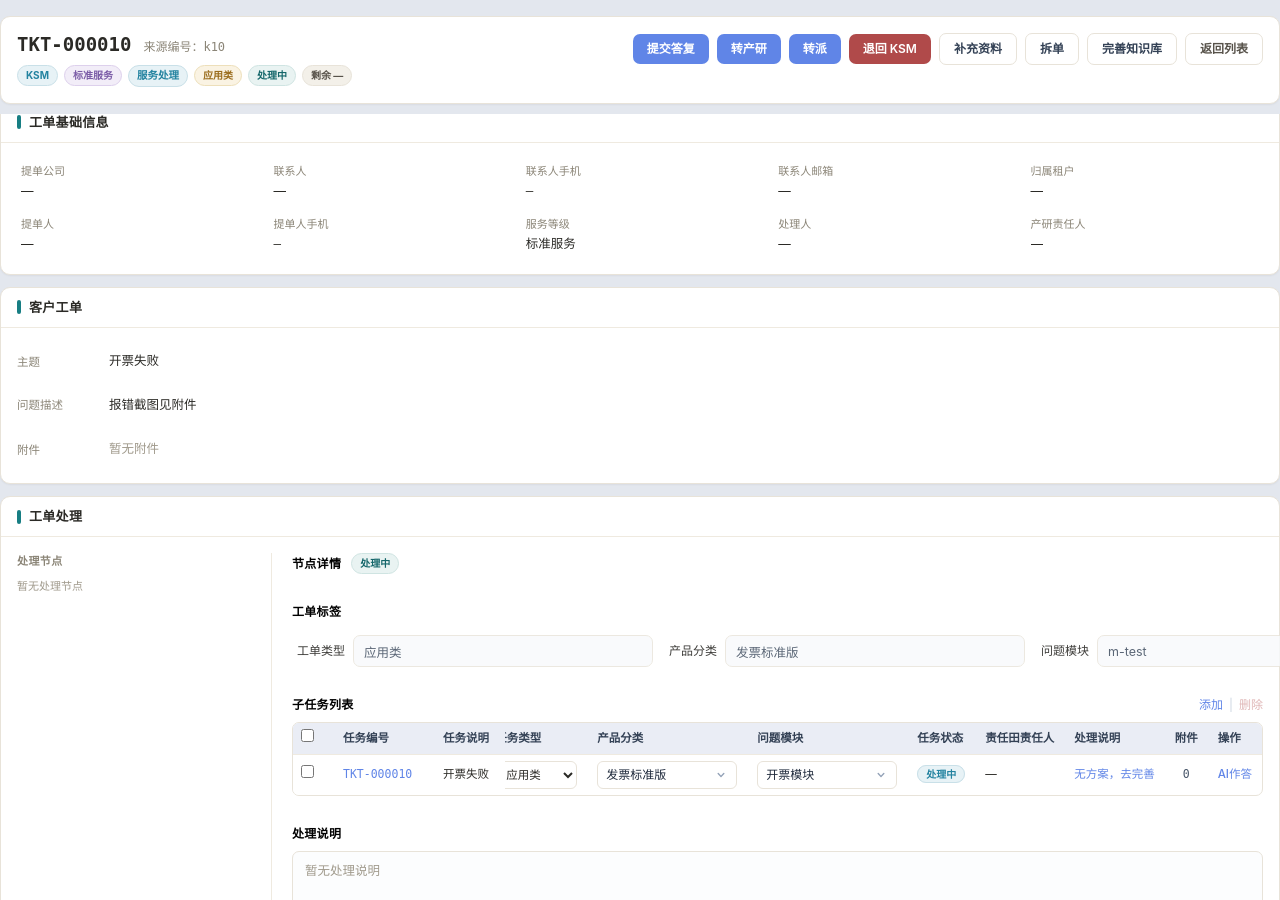
Scenario: TicketDetailPage 出站回写失败横幅 › 场景2：处理说明已有内容时点击【转产研】增强与禁用联动 › 维护知识库抽屉中点击【仅作答】按钮，内容回写至任务处理说明且不向知识库发送新增请求
点击子任务列表中「无方案，去完善」打开维护知识库抽屉
Click the button "无方案，去完善" at (1114, 775), box [1074,766,1155,783]
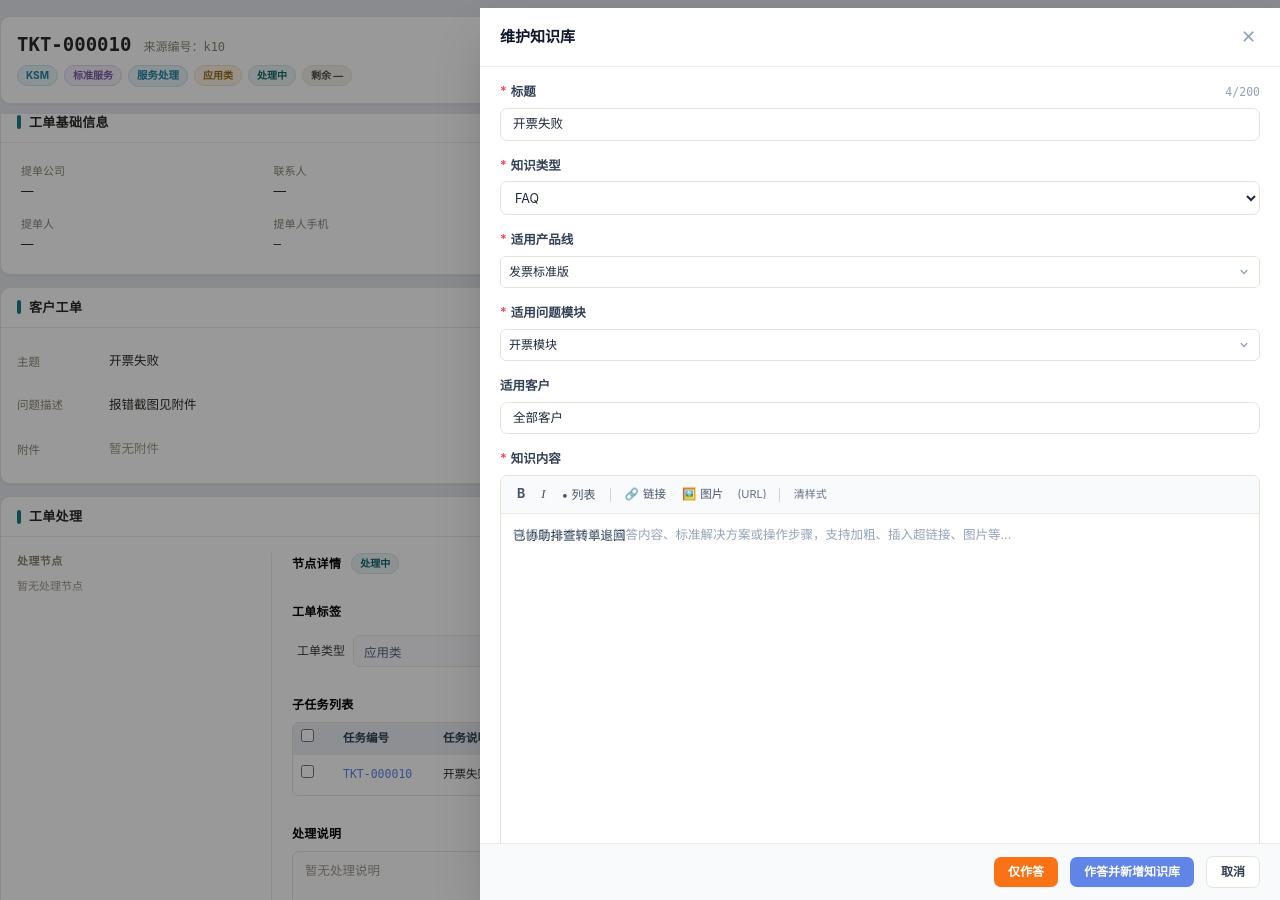
Now the dialog is shown
Now the button "仅作答" is shown, box [994,857,1058,887]
Now the button "作答并新增知识库" is shown, box [1070,857,1194,887]
Clear the field named "富文本知识内容" at (569, 536), box [513,528,626,543]
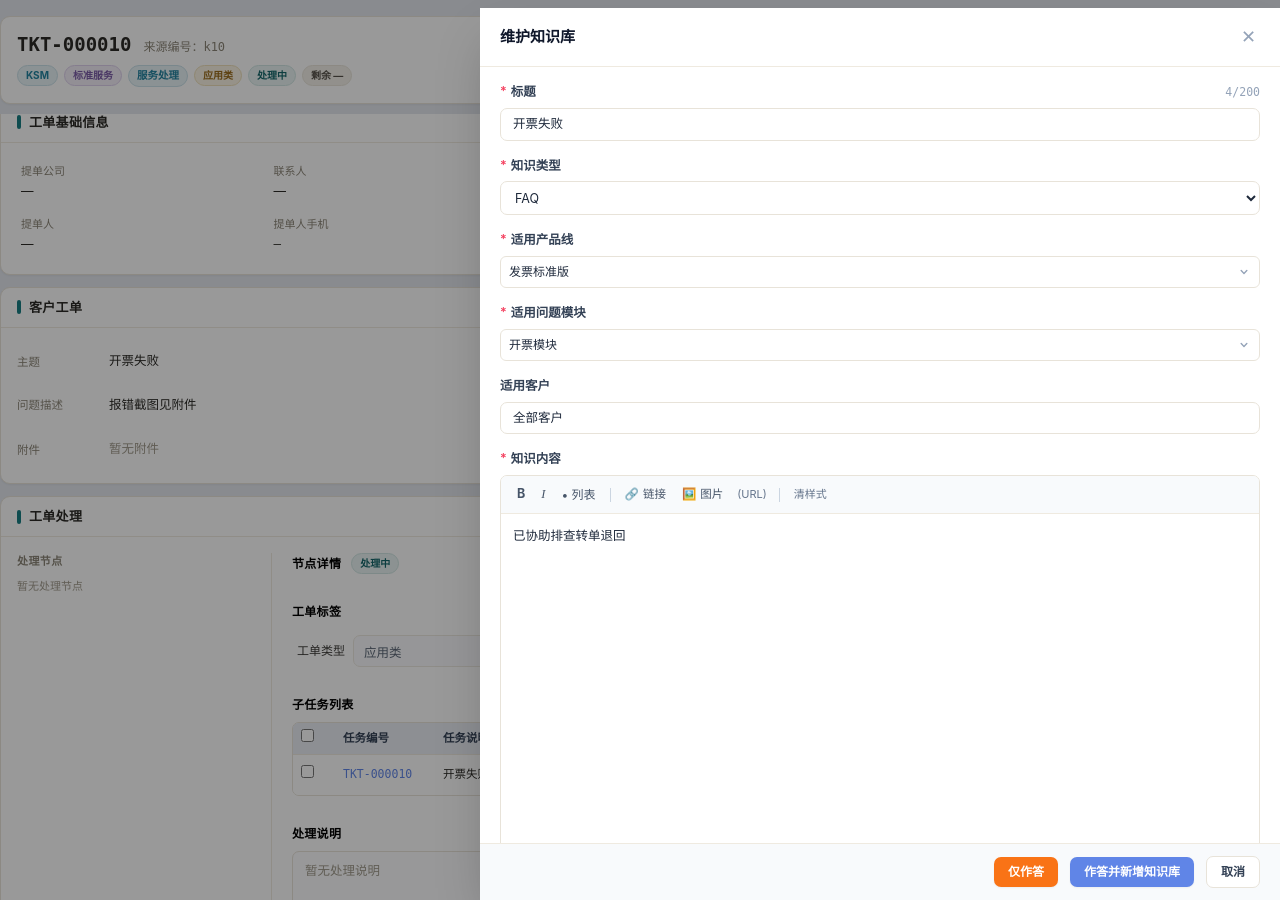
 点击【仅作答】
Click the button "仅作答" at (1026, 872), box [994,857,1058,887]
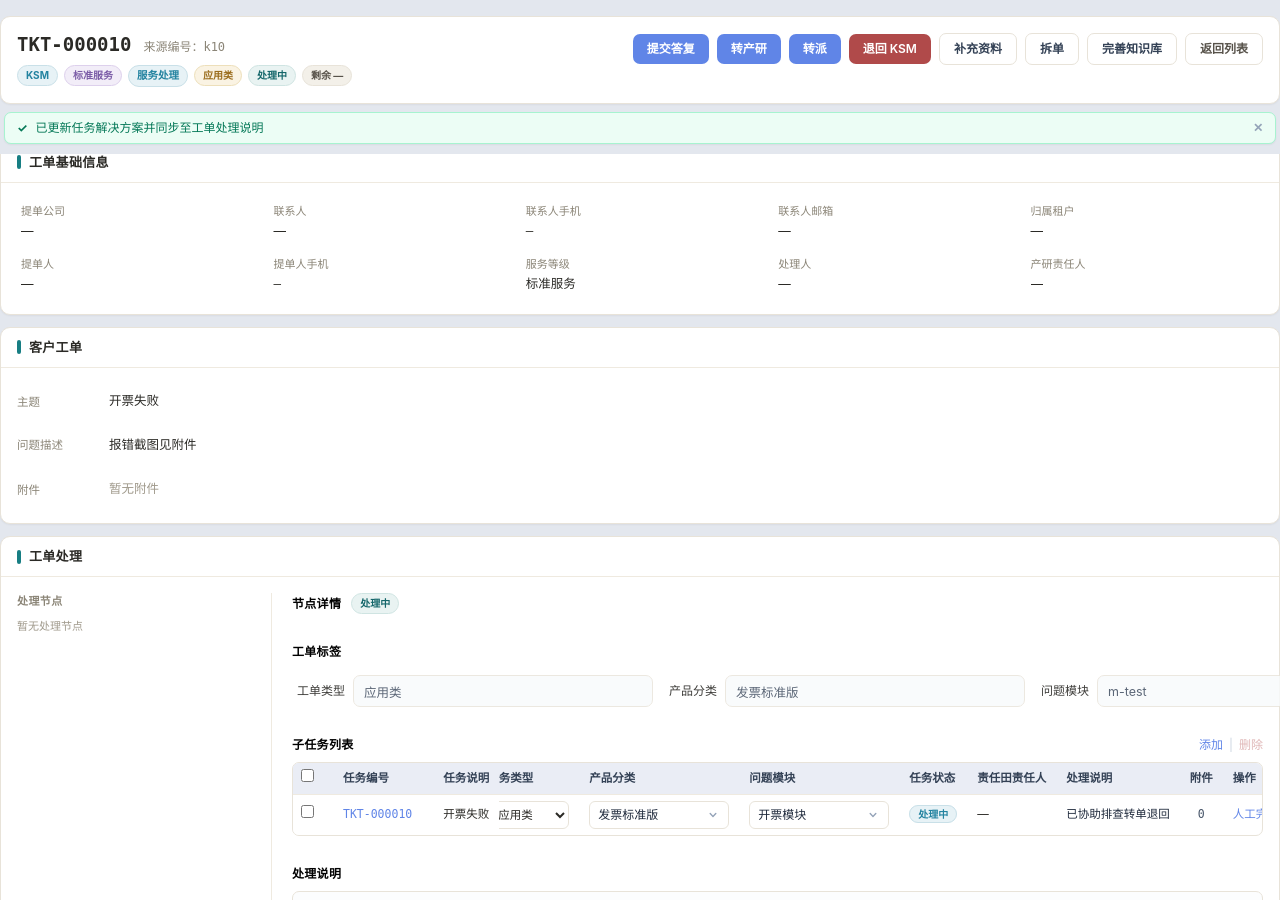
Now the dialog is gone
